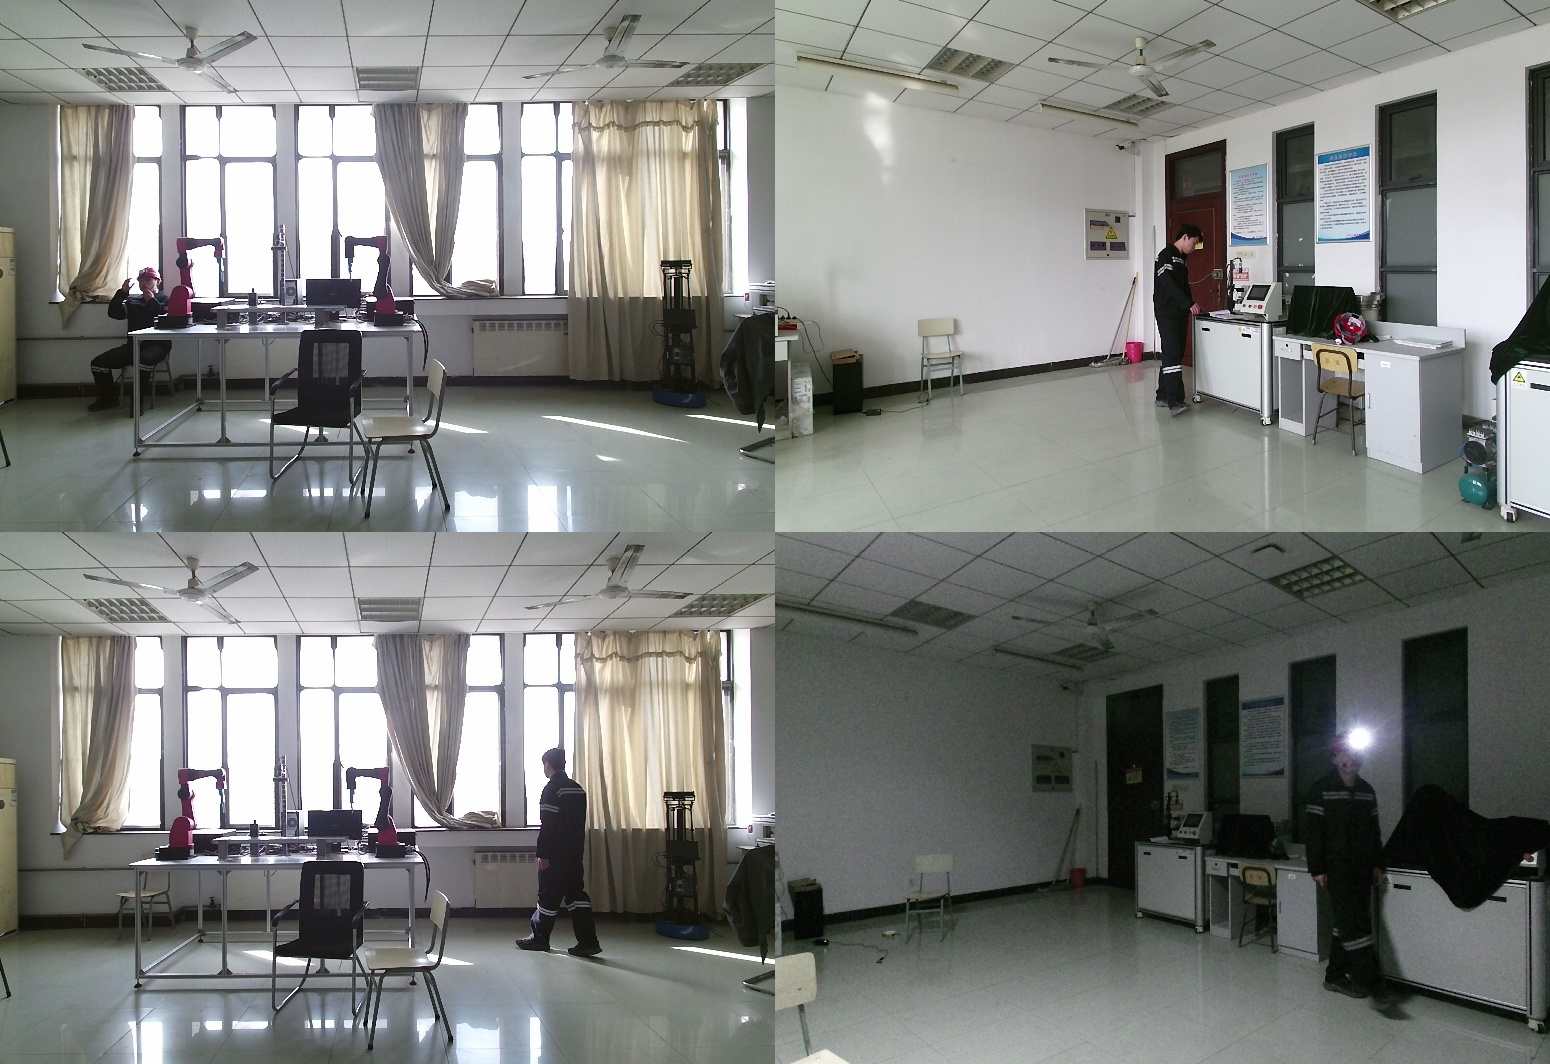person: (1297, 730, 1393, 1008), (520, 749, 608, 965), (83, 266, 172, 416), (1147, 230, 1211, 420)
